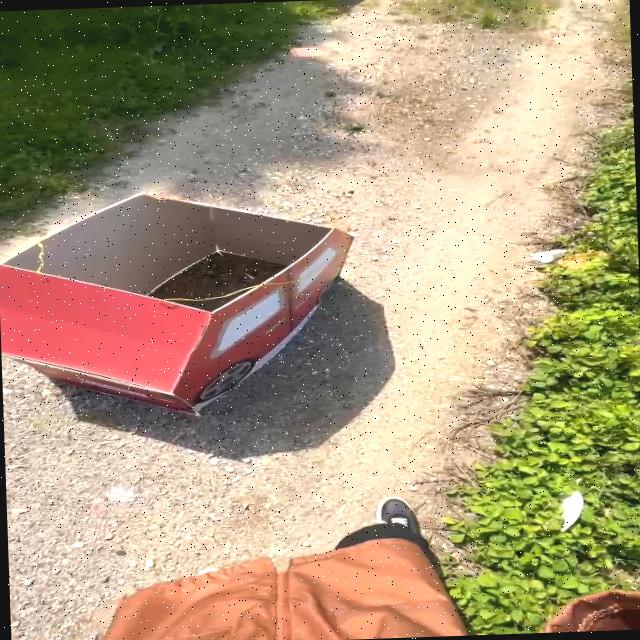red_car: (0, 170, 404, 436)
